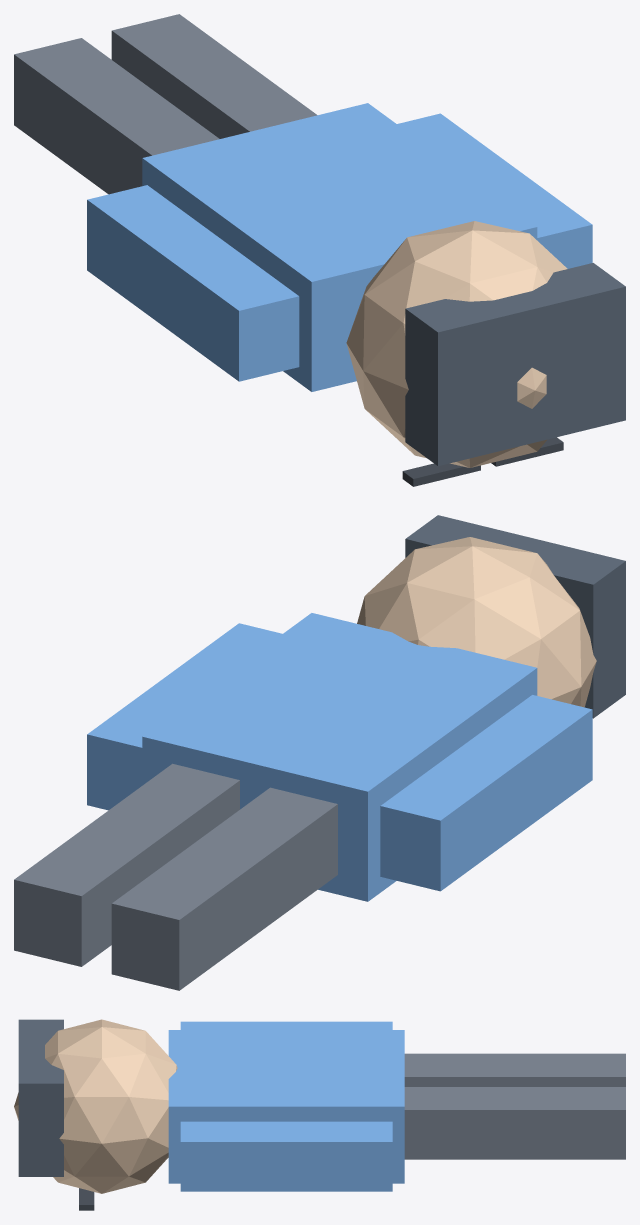
File: junior.glb
The picture shows the model from 3 angles, top to bottom: view 1: azimuth 30°, elevation 25°; view 2: azimuth 150°, elevation 25°; view 3: azimuth 270°, elevation 25°; orthographic projection. The views are drawn at different scales.
Parts seen in each view (by area): view 1: torso, hair, arm_l, head, leg_l, leg_r, arm_r, glasses_l; view 2: torso, leg_l, arm_l, head, leg_r, hair, arm_r; view 3: torso, head, leg_r, arm_r, leg_l, hair, arm_l, glasses_r.
Boxes of the visible parts, bbox=[...] form: torso: bbox=[142, 103, 537, 391]; hair: bbox=[405, 263, 625, 465]; arm_l: bbox=[87, 185, 299, 381]; head: bbox=[346, 221, 567, 467]; leg_l: bbox=[14, 38, 219, 194]; leg_r: bbox=[111, 14, 317, 138]; arm_r: bbox=[397, 113, 592, 268]; glasses_l: bbox=[402, 463, 480, 486]; torso: bbox=[142, 613, 537, 901]; leg_l: bbox=[111, 787, 337, 990]; arm_l: bbox=[380, 695, 592, 891]; head: bbox=[357, 537, 596, 707]; leg_r: bbox=[14, 763, 239, 966]; hair: bbox=[405, 515, 625, 718]; arm_r: bbox=[87, 623, 282, 810]; torso: bbox=[168, 1030, 404, 1183]; head: bbox=[14, 1019, 177, 1193]; leg_r: bbox=[404, 1087, 625, 1159]; arm_r: bbox=[180, 1121, 392, 1191]; leg_l: bbox=[404, 1053, 625, 1086]; hair: bbox=[18, 1019, 63, 1176]; arm_l: bbox=[180, 1021, 392, 1029]; glasses_r: bbox=[79, 1188, 94, 1210].
Bounding box in the file's own units: 0.94 × 0.58 × 2.02.
